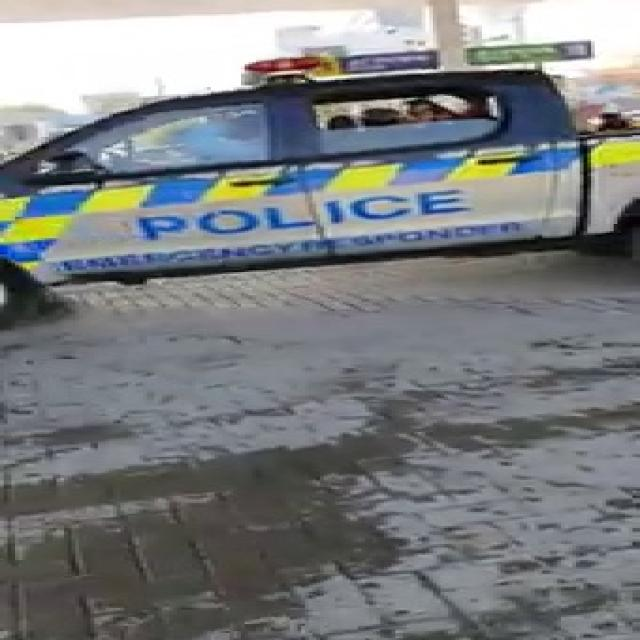police: (0, 9, 640, 302)
